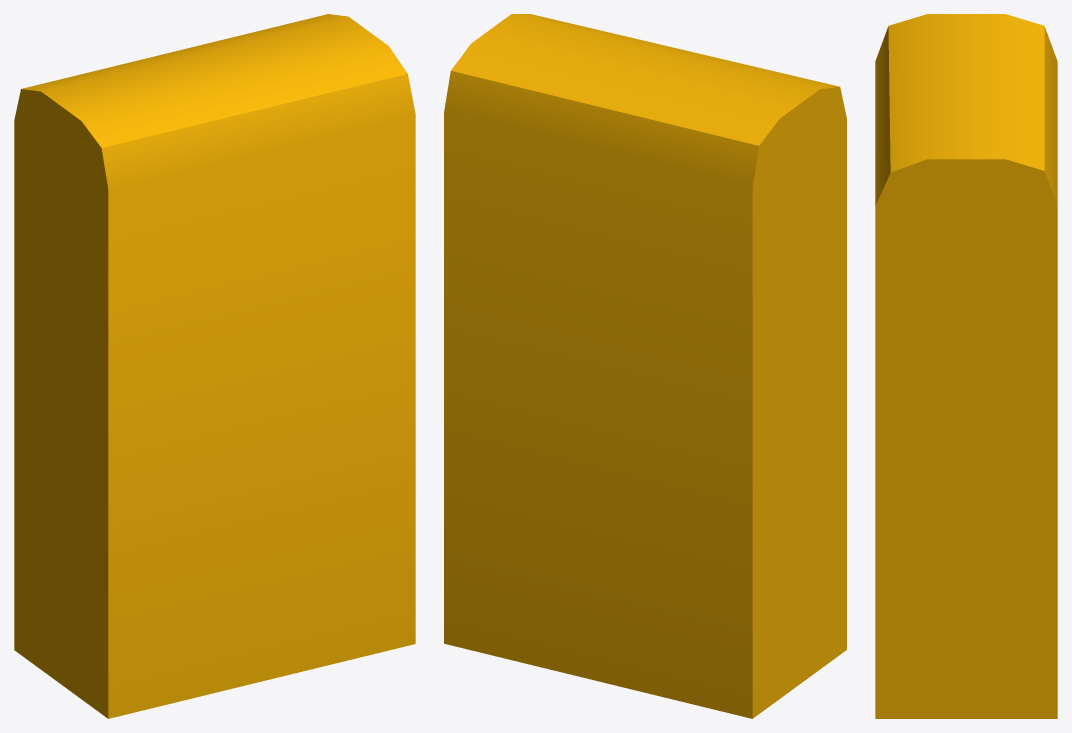
File: Rubber.FBX
The picture shows the model from 3 angles, left to right: view 1: azimuth 30°, elevation 25°; view 2: azimuth 150°, elevation 25°; view 3: azimuth 270°, elevation 25°; orthographic projection. The views are drawn at different scales.
Visible parts, largest first — view 1: Object005; view 2: Object005; view 3: Object005.
Boxes of the visible parts, left/top/right/bottom form: Object005: left=14, top=14, right=415, bottom=718; Object005: left=444, top=14, right=846, bottom=718; Object005: left=875, top=14, right=1057, bottom=718.
Size of the model in its own units: 2.67 by 4.79 by 1.41.
